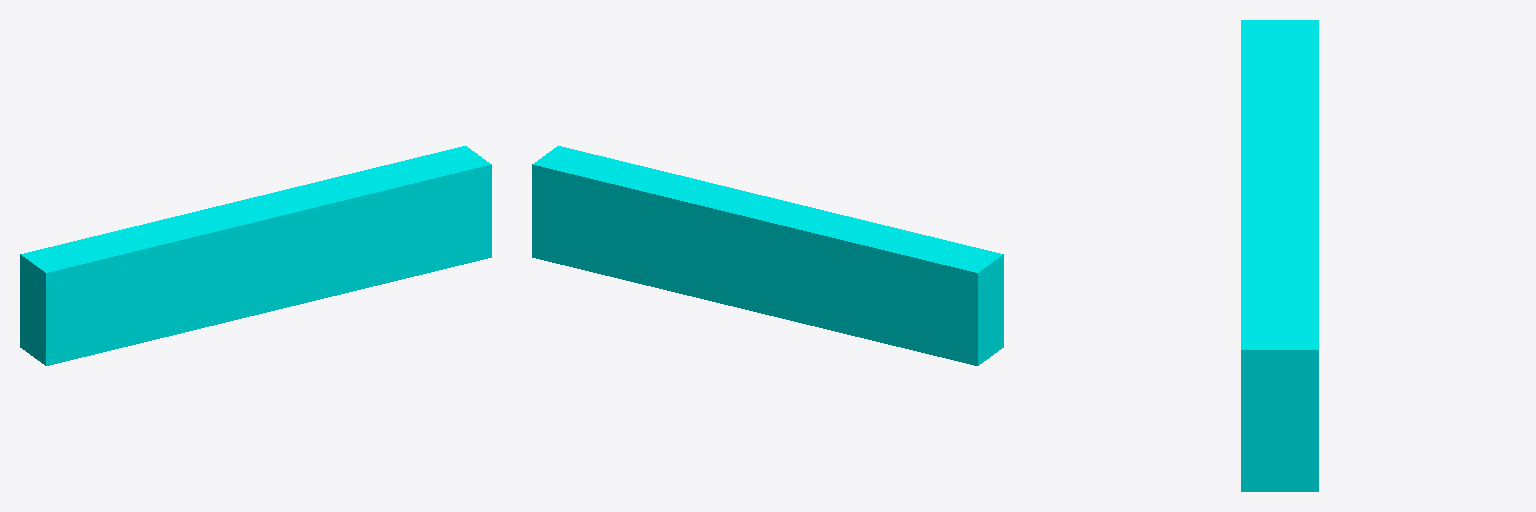
The robot description file, URDF, robot "ball":
<?xml version="0.0" ?>
<robot name="ball">
    <link name="wall">
        <contact>
            <lateral_friction value="1"/>
        </contact>

        <inertial>
            <origin xyz="0 0 0" rpy="0 0 0"/>
            <mass value="0.0"/>
            <inertia ixx="0"  ixy="0"  ixz="0" iyy="0" iyz="0" izz="0" />
        </inertial>

        <visual>
            <origin xyz="0 0 0" rpy="0 0 0" />
            <geometry>
                <box size="10 1 2" />
            </geometry>
            <material name="Cyan">
                <color rgba="0 1.0 1.0 1.0"/>
            </material>
        </visual>

        <collision>
            <origin xyz="0 0 0" rpy="0 0 0"/>
            <geometry>
                <box size="10 1 2" />
            </geometry>
        </collision>
    </link>
</robot>

--- Facts derived from the render (not from the file) ---
The picture shows the robot from 3 angles, left to right: view 1: azimuth 30°, elevation 25°; view 2: azimuth 150°, elevation 25°; view 3: azimuth 270°, elevation 25°; orthographic projection.
Robot: ball — 1 links, 0 joints (none); root link wall; default pose: every joint at zero.
Links seen in each view (by area): view 1: wall; view 2: wall; view 3: wall.
Boxes of the visible links, <box> form: wall: <box>20,146,491,365</box>; wall: <box>532,146,1003,365</box>; wall: <box>1241,20,1318,491</box>.
Bounding box of the posed robot: 10 × 1 × 2 m (x, y, z).
Geometry: primitives only (box / cylinder / sphere), no mesh files.